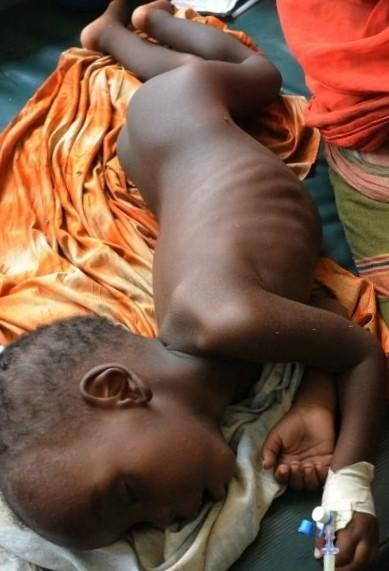Stunting: (4, 324, 246, 560)
